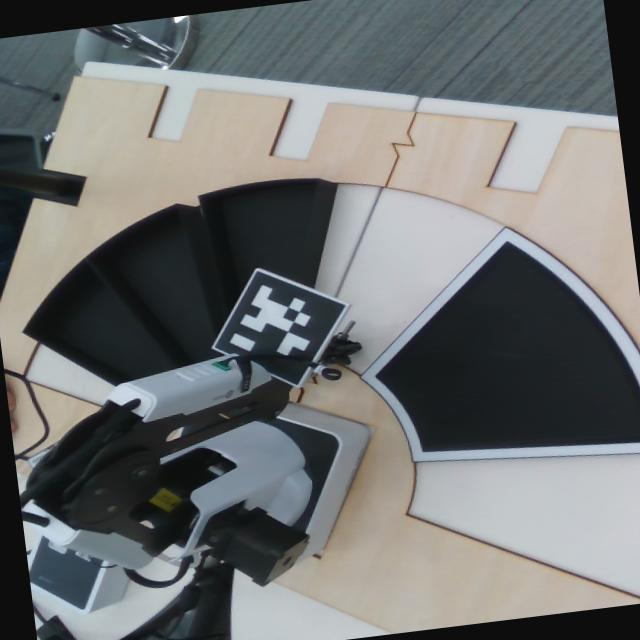board: (346, 209, 640, 486)
box: (13, 255, 185, 427), (79, 200, 221, 388), (197, 174, 330, 369)
